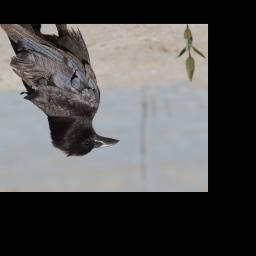Crow: (0, 24, 121, 158)
